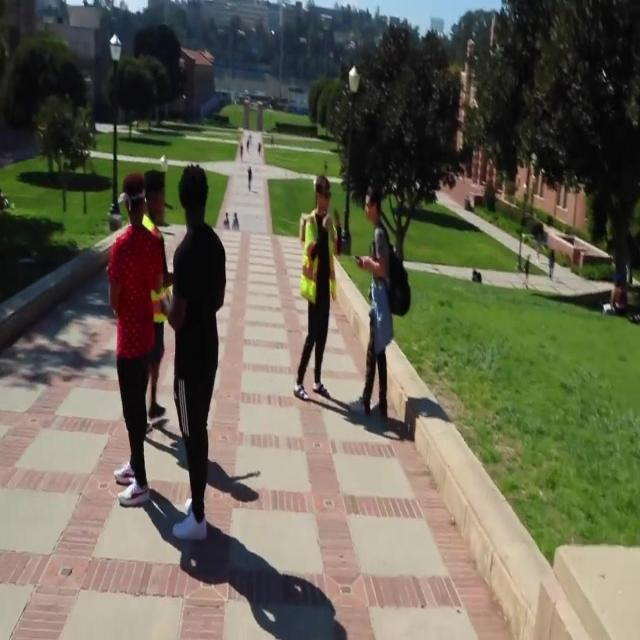Vest: (302, 212, 338, 303), (142, 214, 166, 322)
